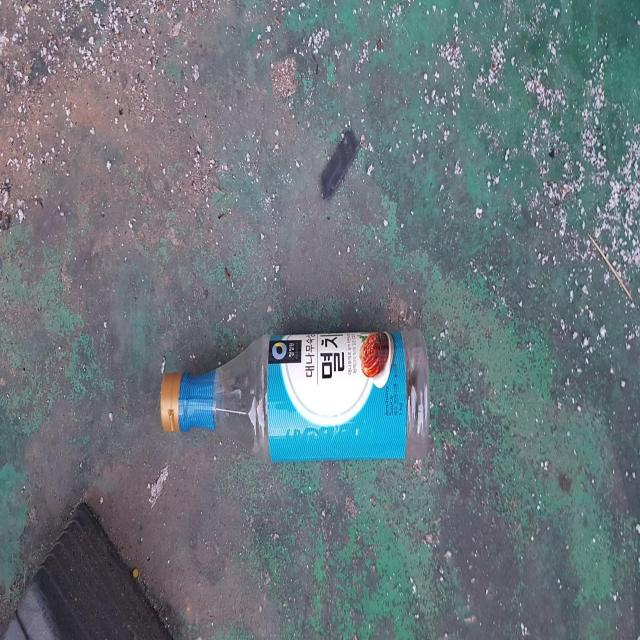plastic: (160, 328, 431, 462)
